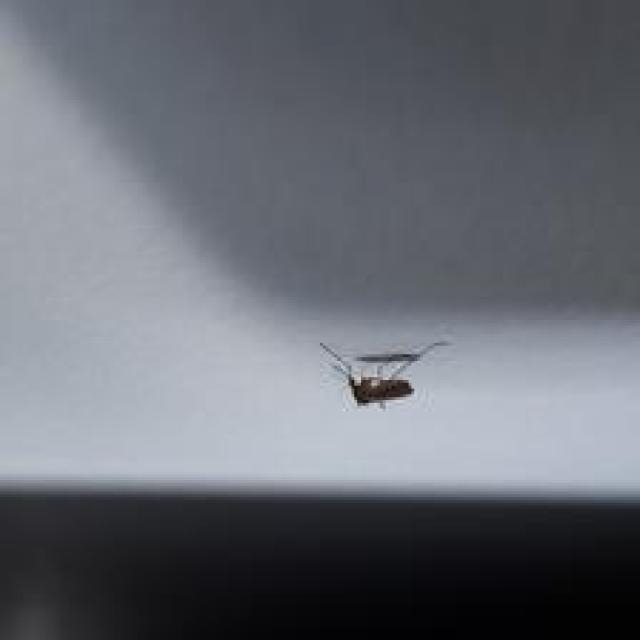Culex: (319, 339, 450, 410)
